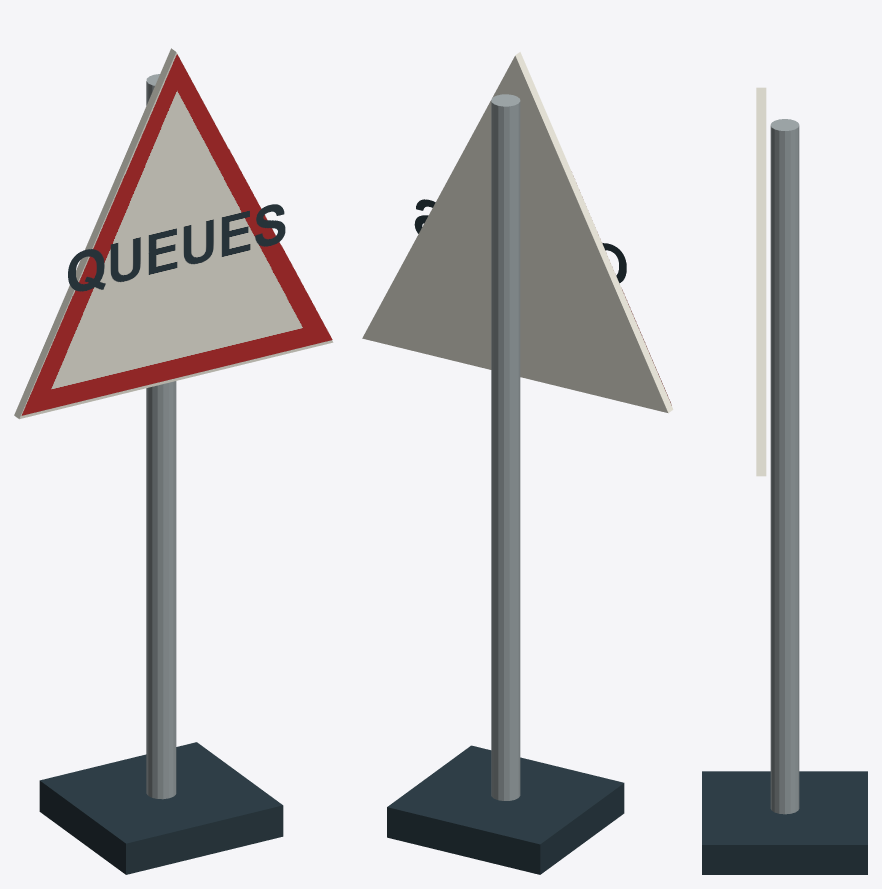
Rendered from scendance-plan-queues.glb.
3 views of the same model, side by side, from view 1: azimuth 30°, elevation 25°; view 2: azimuth 150°, elevation 25°; view 3: azimuth 270°, elevation 25° (orthographic). The views are drawn at different scales.
Size of the model in its own units: 0.84 by 2 by 0.4.
Materials: 4 (1 with a texture image).
